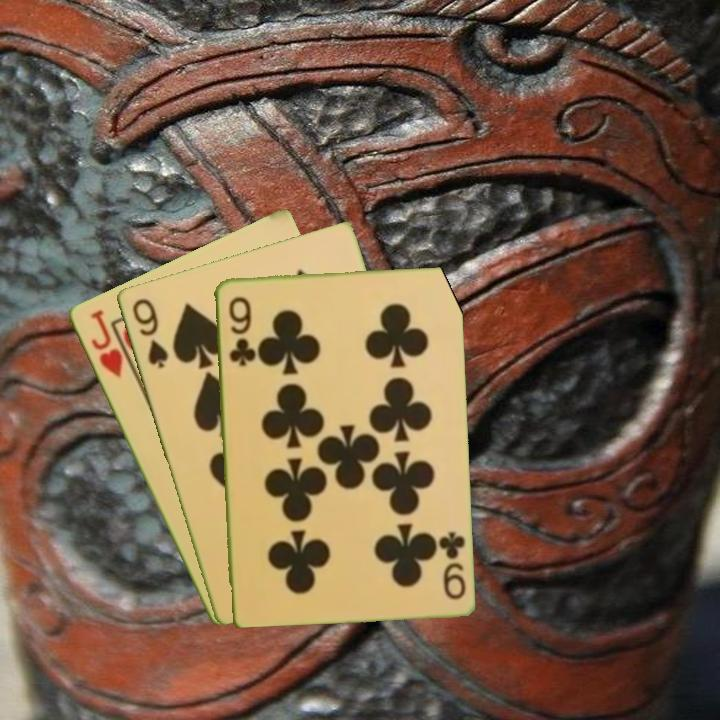9c: (434, 527, 469, 602), (225, 292, 254, 369)
9s: (128, 294, 171, 371)
Jh: (86, 305, 125, 380)
